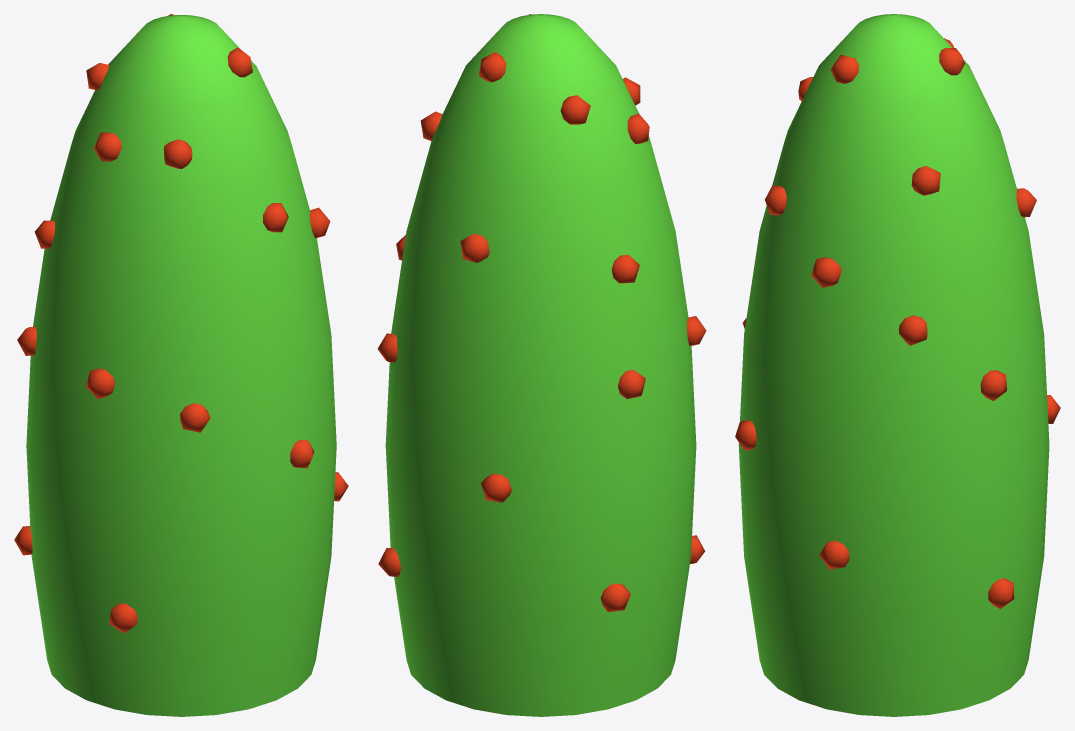
Rendered from Bush_3.fbx.
3 views of the same model, side by side, from view 1: azimuth 30°, elevation 25°; view 2: azimuth 150°, elevation 25°; view 3: azimuth 270°, elevation 25° (orthographic).
Parts seen in each view (by area): view 1: Bush_3; view 2: Bush_3; view 3: Bush_3.
Boxes of the visible parts, x1,y1,x2,y2 form: Bush_3: (14, 14, 348, 716); Bush_3: (377, 14, 706, 716); Bush_3: (735, 14, 1060, 716).
Size of the model in its own units: 0.5578 by 1.27 by 0.5832.
